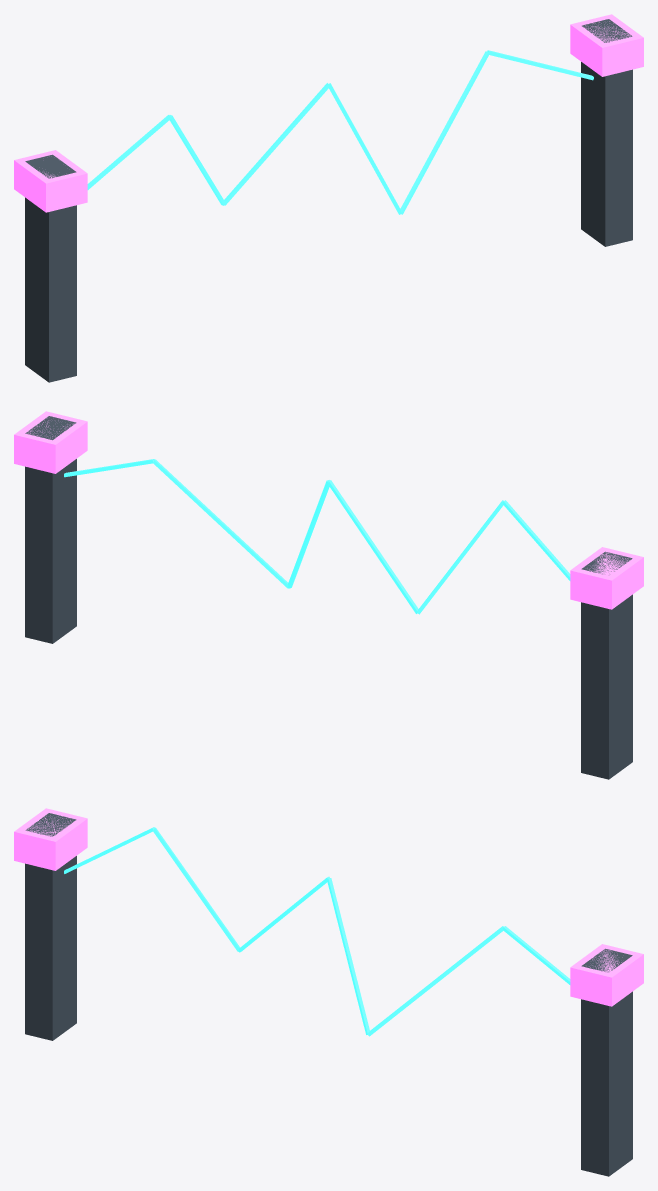
The model's file is power_arc.glb.
The picture shows the model from 3 angles, top to bottom: view 1: azimuth 30°, elevation 25°; view 2: azimuth 150°, elevation 25°; view 3: azimuth 330°, elevation 25°; orthographic projection.
Parts seen in each view (by area): view 1: power_arc; view 2: power_arc; view 3: power_arc.
Boxes of the visible parts, x1,y1,x2,y2 form: power_arc: (14, 14, 643, 382); power_arc: (14, 411, 643, 779); power_arc: (14, 808, 643, 1176).
Size of the model in its own units: 43 by 16.09 by 4.14.
